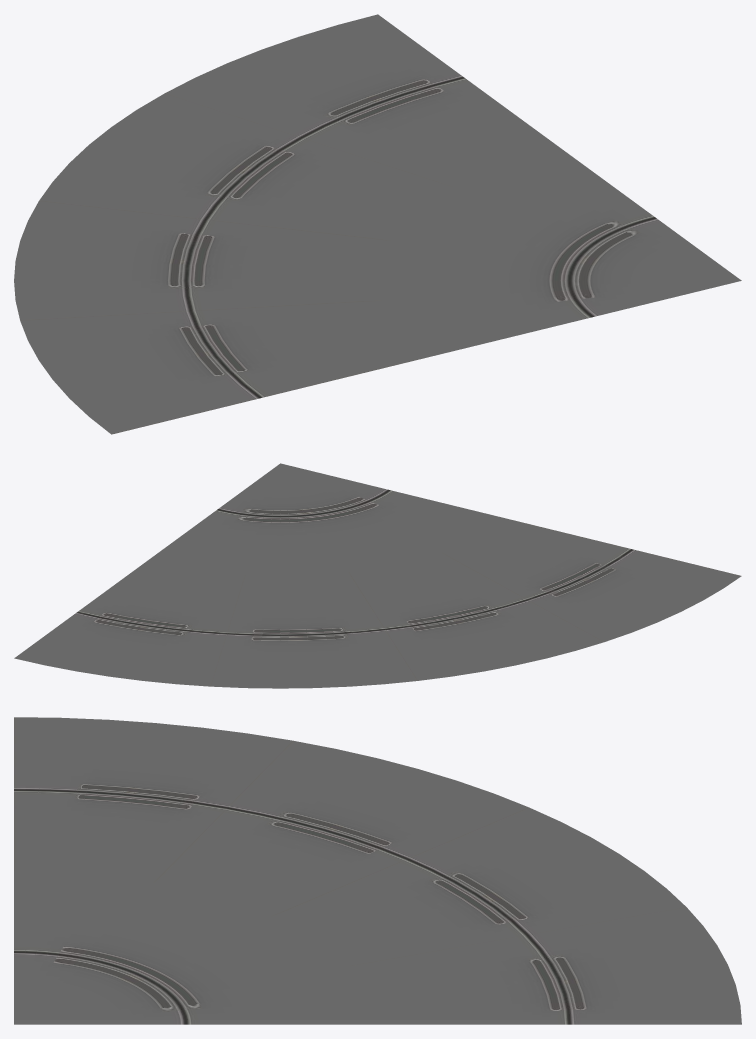
File: platform_metal_curve.gltf
The picture shows the model from 3 angles, top to bottom: view 1: azimuth 30°, elevation 25°; view 2: azimuth 150°, elevation 25°; view 3: azimuth 270°, elevation 25°; orthographic projection. The views are drawn at different scales.
Parts seen in each view (by area): view 1: Platform_Metal_Curve; view 2: Platform_Metal_Curve; view 3: Platform_Metal_Curve.
Boxes of the visible parts, x1,y1,x2,y2 form: Platform_Metal_Curve: (14,14,741,434); Platform_Metal_Curve: (14,463,741,688); Platform_Metal_Curve: (14,717,741,1024).
Bounding box in the file's own units: 4 × 0 × 4.
1 material, 1 textured.
